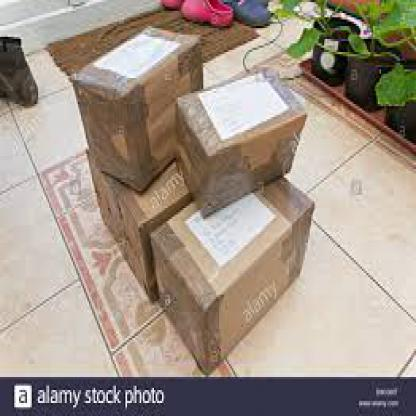paquete: (146, 180, 329, 372), (66, 15, 209, 178), (170, 62, 310, 204), (78, 145, 197, 306)
